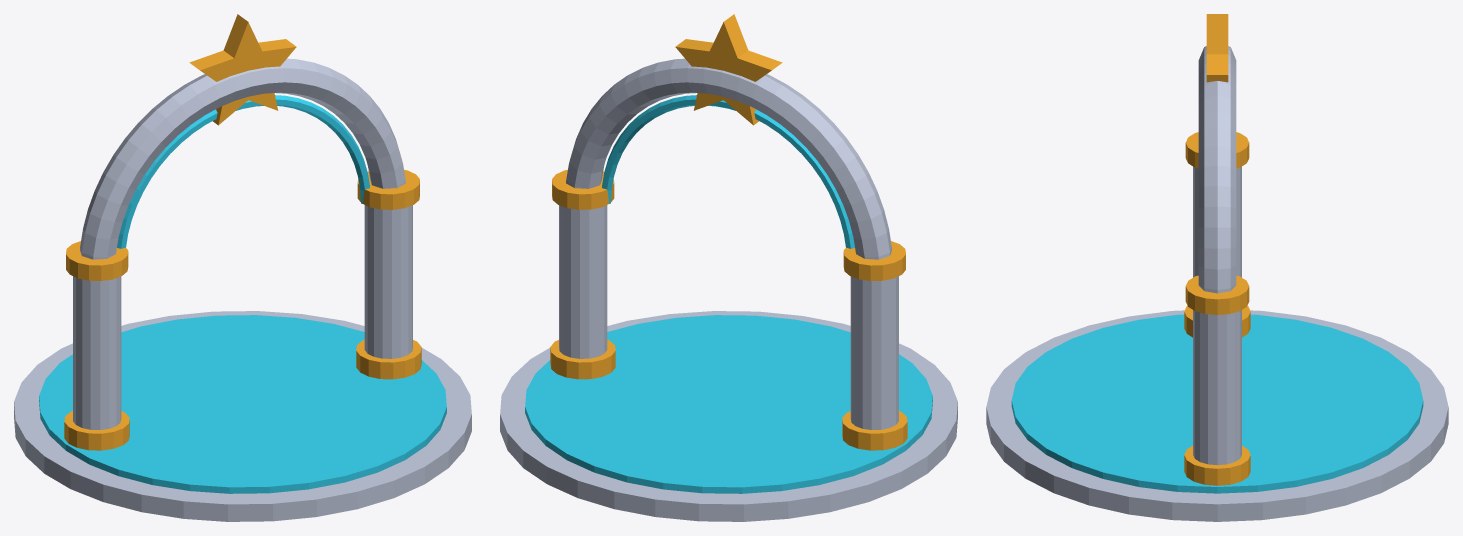
The model's file is star_observatory.obj.
3 views of the same model, side by side, from view 1: azimuth 30°, elevation 25°; view 2: azimuth 150°, elevation 25°; view 3: azimuth 270°, elevation 25° (orthographic).
Parts seen in each view (by area): view 1: star_observatory; view 2: star_observatory; view 3: star_observatory.
Boxes of the visible parts, bbox=[...] form: star_observatory: bbox=[14, 14, 471, 521]; star_observatory: bbox=[500, 14, 957, 521]; star_observatory: bbox=[986, 14, 1448, 521].
Bounding box in the file's own units: 6.4 × 6.27 × 6.4.
